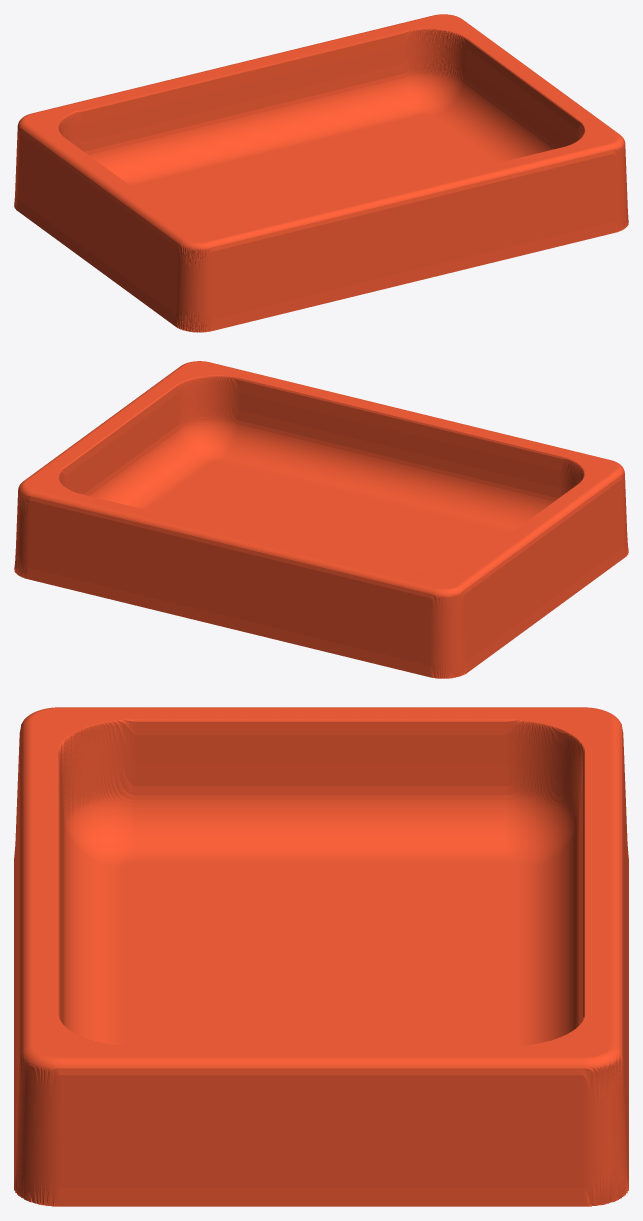
The model's file is mold.glb.
3 views of the same model, one above another, from view 1: azimuth 30°, elevation 25°; view 2: azimuth 150°, elevation 25°; view 3: azimuth 270°, elevation 25° (orthographic). The views are drawn at different scales.
Parts seen in each view (by area): view 1: geometry_0; view 2: geometry_0; view 3: geometry_0.
Boxes of the visible parts, x1,y1,x2,y2 form: geometry_0: (14,14,628,332); geometry_0: (14,361,628,678); geometry_0: (14,707,628,1206).
Bounding box in the file's own units: 0.1709 × 0.031 × 0.1219.
